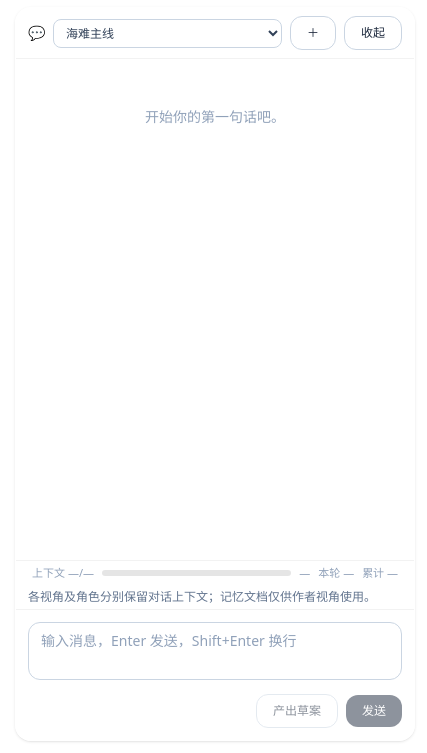
Test: F13 FI9: AgentDock › 「＋」创建新会话并切换到该会话（等价类-有效创建）
Expected: the dropdown with test id "agent-dock-session-select" is shown, [53,18,282,48]
Click the button with test id "agent-dock-create" at (313, 33), box [290,16,336,50]
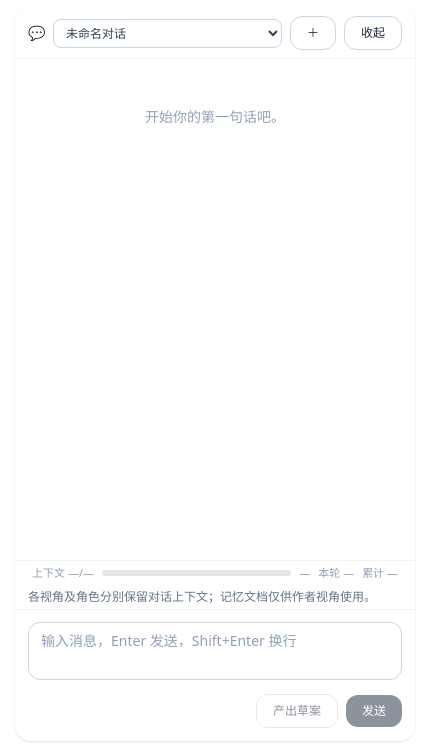
Result: the dropdown with test id "agent-dock-session-select" shows "未命名对话" at [53,18,282,48]
